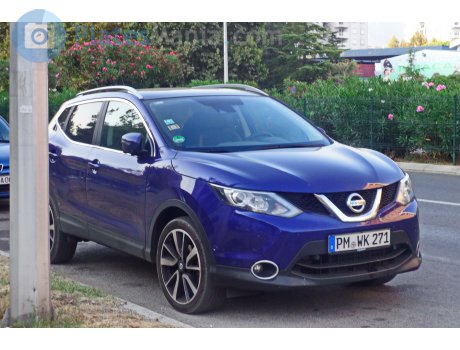License Plates: (341, 233, 392, 247)
